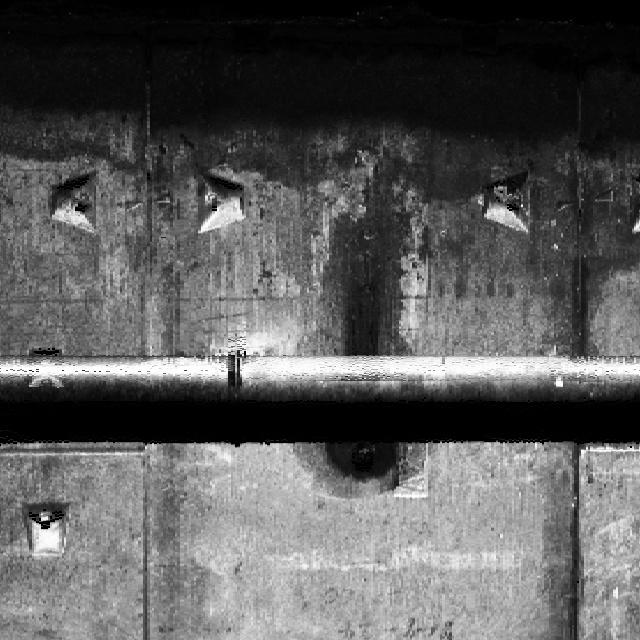leakage: (4, 0, 639, 165), (294, 200, 429, 356), (525, 181, 639, 358), (538, 444, 597, 639), (288, 428, 440, 503)
